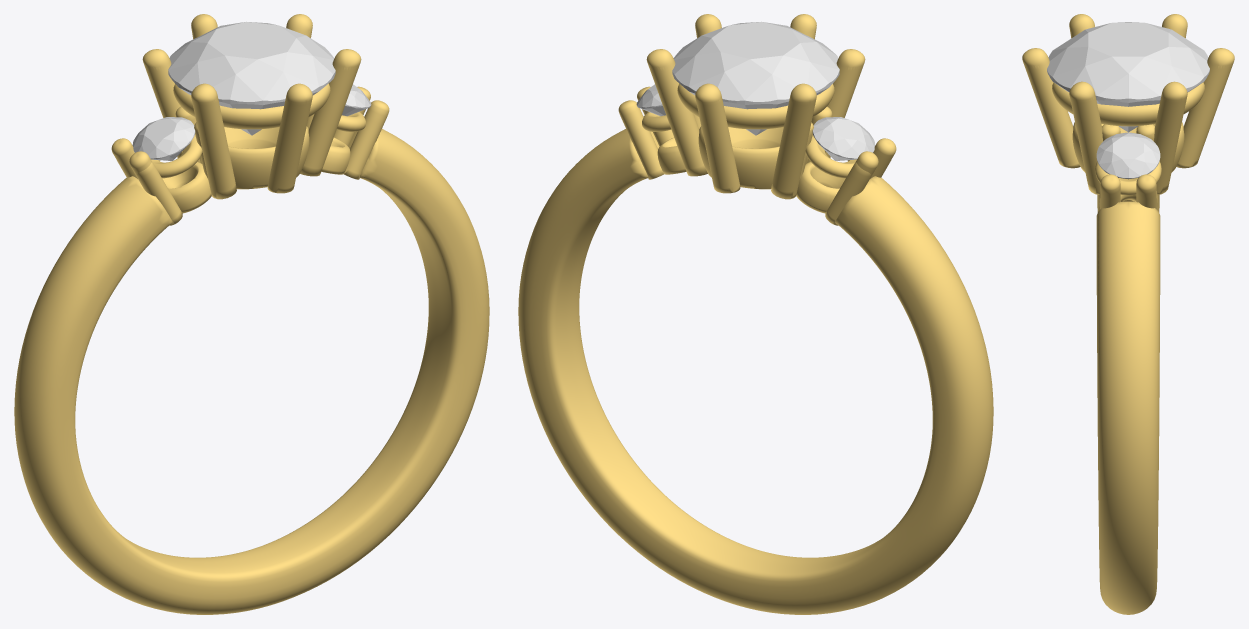
The model's file is diamond-round-yellowgold-6prong-straightband-2stone.glb.
3 renders of one model, left to right at view 1: azimuth 30°, elevation 25°; view 2: azimuth 150°, elevation 25°; view 3: azimuth 270°, elevation 25°, orthographic. The views are drawn at different scales.
Visible parts, largest first — view 1: metal, stone, side.001; view 2: metal, stone, side.001; view 3: metal, stone, side.
Part boxes in pixels (x1,y1,x2,y2): metal: [14, 14, 489, 614]; stone: [168, 21, 335, 135]; side.001: [132, 117, 195, 160]; metal: [518, 14, 993, 614]; stone: [672, 21, 839, 135]; side.001: [812, 117, 875, 160]; metal: [1022, 14, 1234, 614]; stone: [1047, 22, 1209, 132]; side: [1096, 132, 1160, 179].
Bounding box in the file's own units: 20.5 × 23.81 × 8.33.
